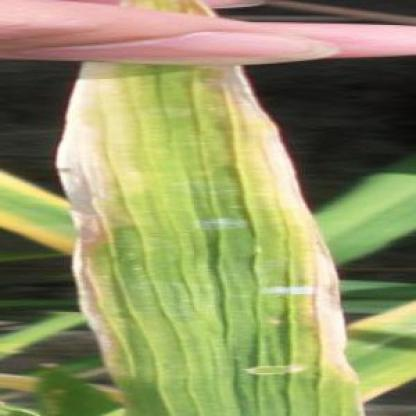Blight: (224, 66, 366, 384), (50, 62, 152, 380)
